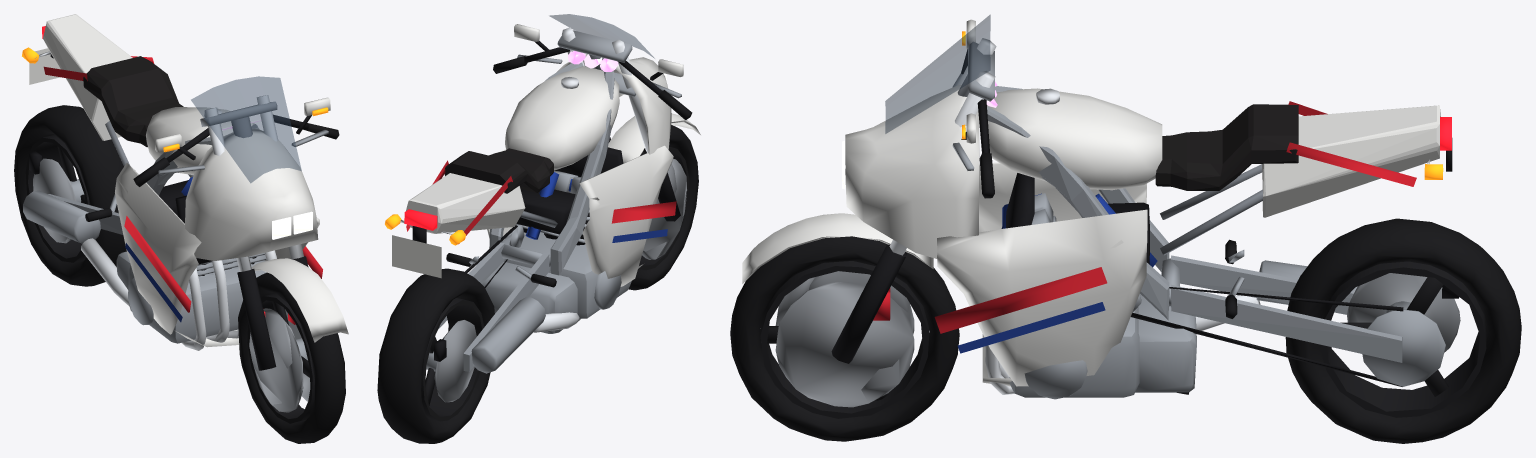
The model's file is neon-blade-900r_lod1.glb.
The picture shows the model from 3 angles, left to right: view 1: azimuth 30°, elevation 25°; view 2: azimuth 150°, elevation 25°; view 3: azimuth 270°, elevation 25°; orthographic projection. The views are drawn at different scales.
Visible parts, largest first — view 1: LOD1; view 2: LOD1; view 3: LOD1.
Part boxes in pixels (x1,y1,x2,y2): LOD1: [14, 14, 348, 443]; LOD1: [377, 14, 700, 443]; LOD1: [730, 14, 1521, 443].
Bounding box in the file's own units: 0.7934 × 1.18 × 2.07.
